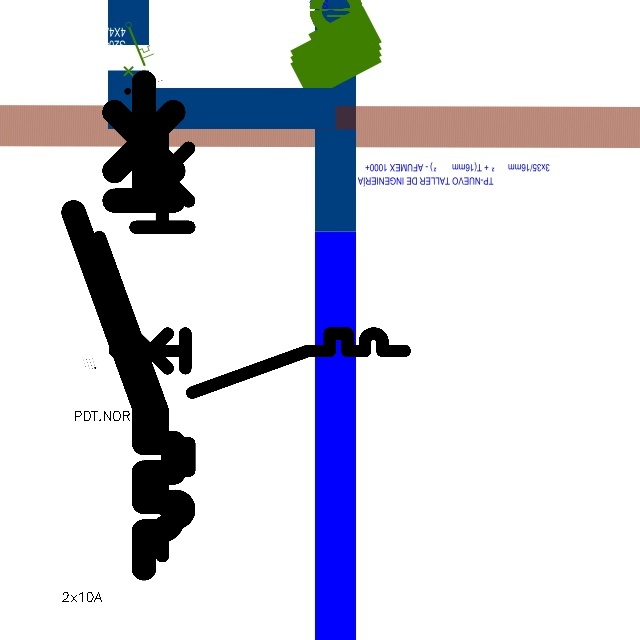interruptor_termomagnetico: (61, 70, 186, 581), (88, 110, 200, 566), (107, 326, 411, 400)
